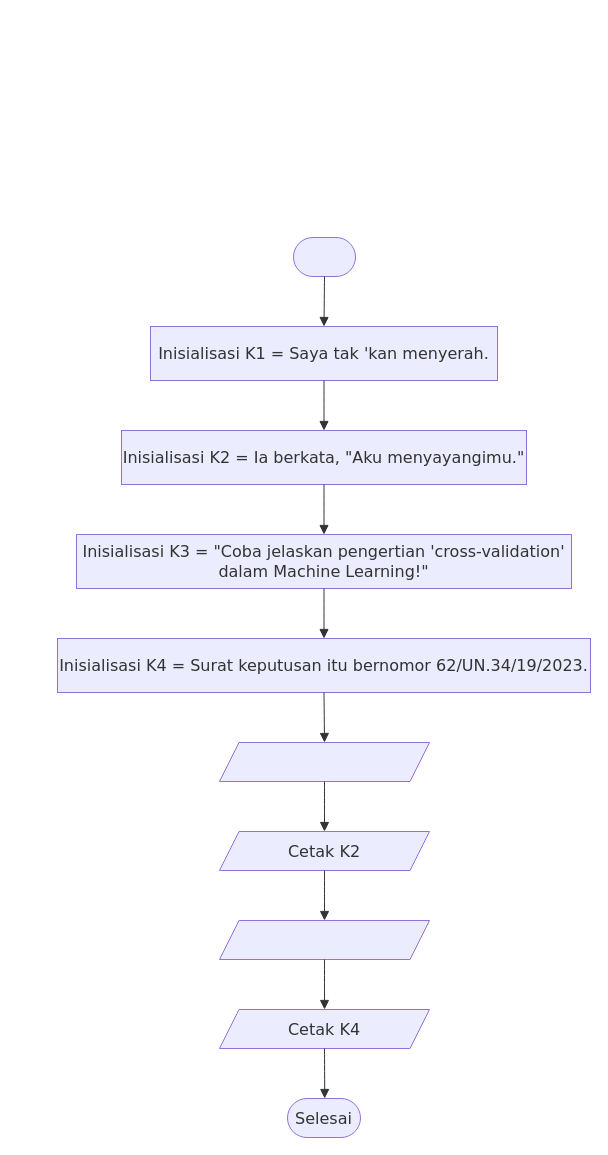
This 608x1155 diagram has some shape labels left out. Here are the shapes that lost their labels. From the top down, the box of each, then its label:
(292, 236, 356, 276): Mulai
(218, 742, 430, 782): Cetak K1
(218, 920, 430, 960): Cetak K3
